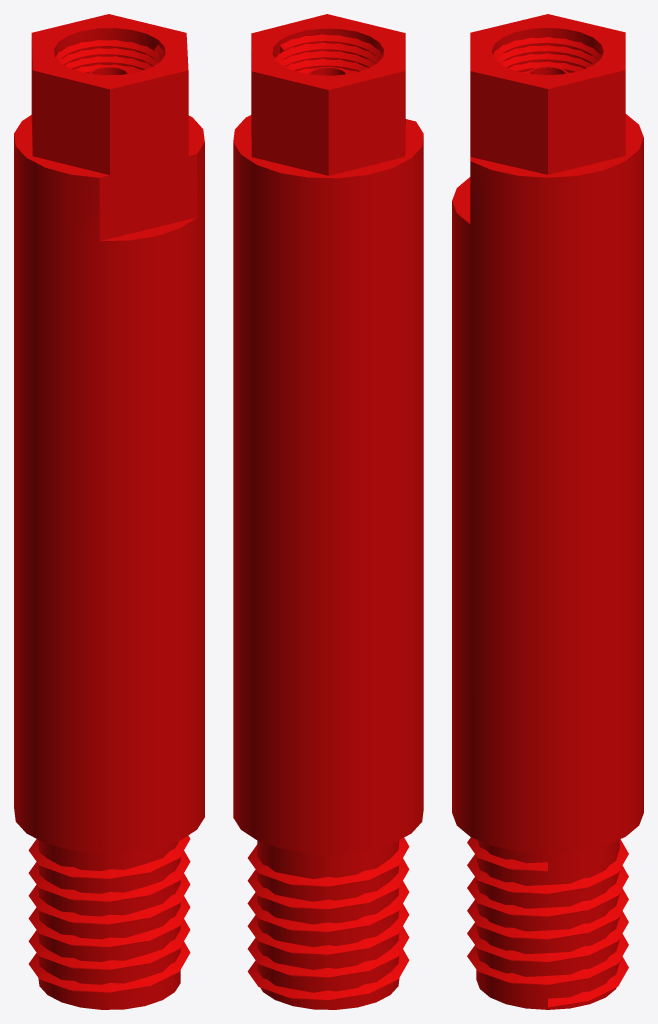
Rendered from seguranca-obj_encaixe.fbx.
The picture shows the model from 3 angles, left to right: view 1: azimuth 30°, elevation 25°; view 2: azimuth 150°, elevation 25°; view 3: azimuth 270°, elevation 25°; orthographic projection.
Visible parts, largest first — view 1: Bagulho1; view 2: Bagulho1; view 3: Bagulho1.
Part boxes in pixels (x1,y1,x2,y2): Bagulho1: (14,14,204,1009); Bagulho1: (233,14,423,1009); Bagulho1: (452,14,643,1009).
Bounding box in the file's own units: 0.8969 × 4.8 × 0.8969.
